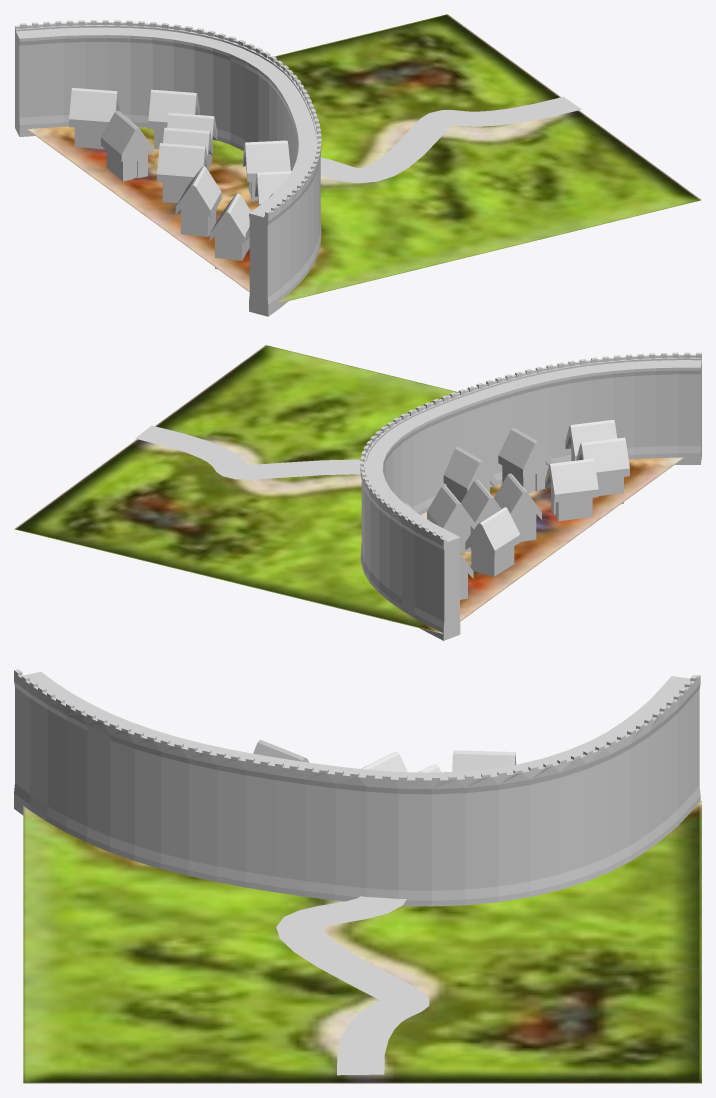
File: tile12.fbx
3 renders of one model, top to bottom at view 1: azimuth 30°, elevation 25°; view 2: azimuth 150°, elevation 25°; view 3: azimuth 270°, elevation 25°, orthographic. The views are drawn at different scales.
Parts seen in each view (by area): view 1: wallHalf.012; view 2: wallHalf.012; view 3: wallHalf.012.
Part boxes in pixels (<box>): wallHalf.012: <box>14,14,701,316</box>; wallHalf.012: <box>14,345,701,640</box>; wallHalf.012: <box>14,669,701,1083</box>.
Bounding box in the file's own units: 103 × 23.59 × 103.
